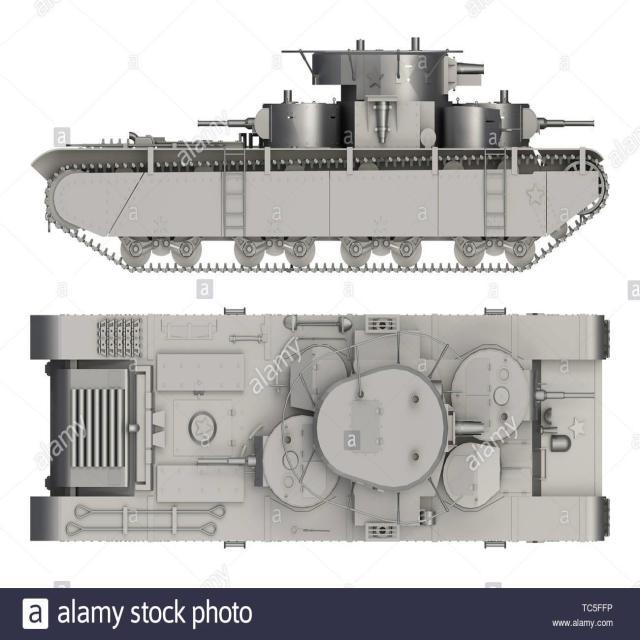MIL_MBT: (20, 32, 615, 281), (25, 301, 612, 552)
